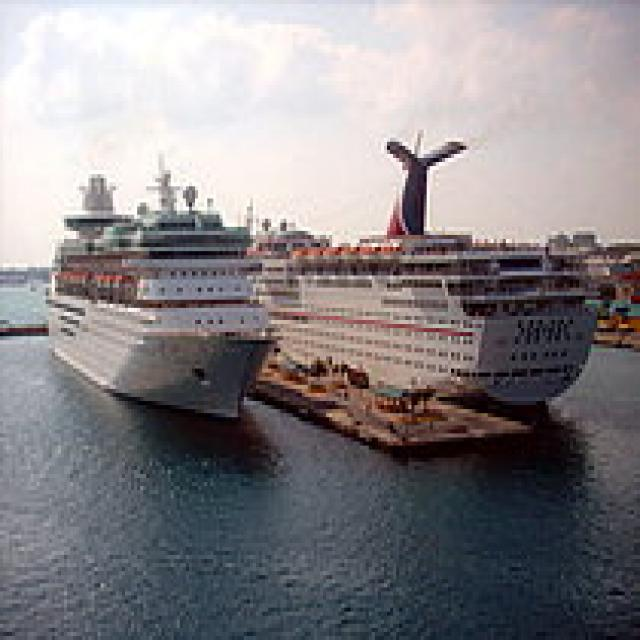Ship: (254, 212, 611, 426), (29, 163, 288, 435)
